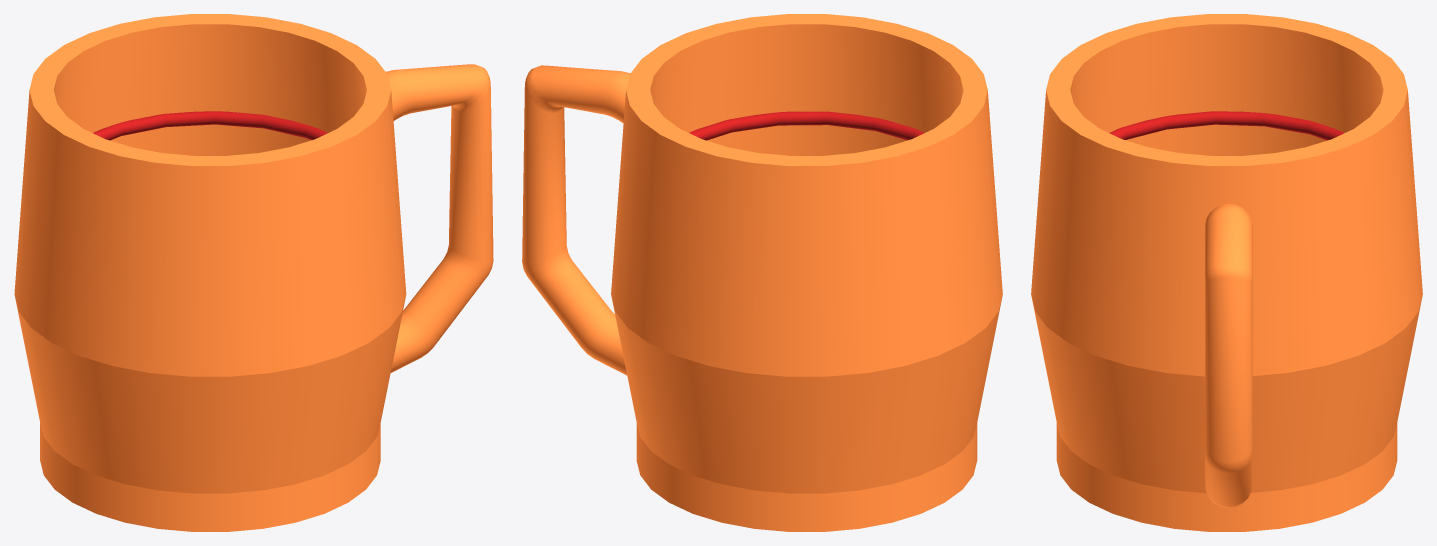
File: mug_4.fbx
The picture shows the model from 3 angles, left to right: view 1: azimuth 30°, elevation 25°; view 2: azimuth 150°, elevation 25°; view 3: azimuth 270°, elevation 25°; orthographic projection.
Visible parts, largest first — view 1: MUG_04; view 2: MUG_04; view 3: MUG_04.
Part boxes in pixels (x1,y1,x2,y2): MUG_04: [14, 14, 493, 531]; MUG_04: [522, 14, 1002, 531]; MUG_04: [1031, 14, 1422, 531].
Bounding box in the file's own units: 24358 × 19184 × 18397.
